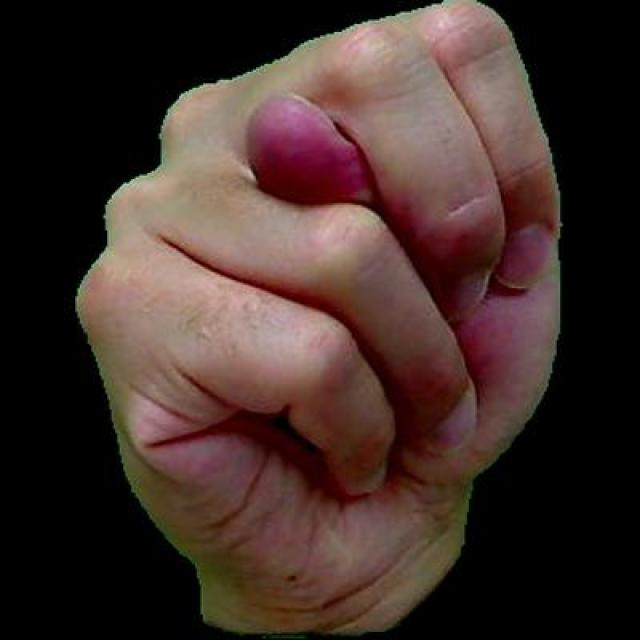n: (50, 0, 572, 637)
